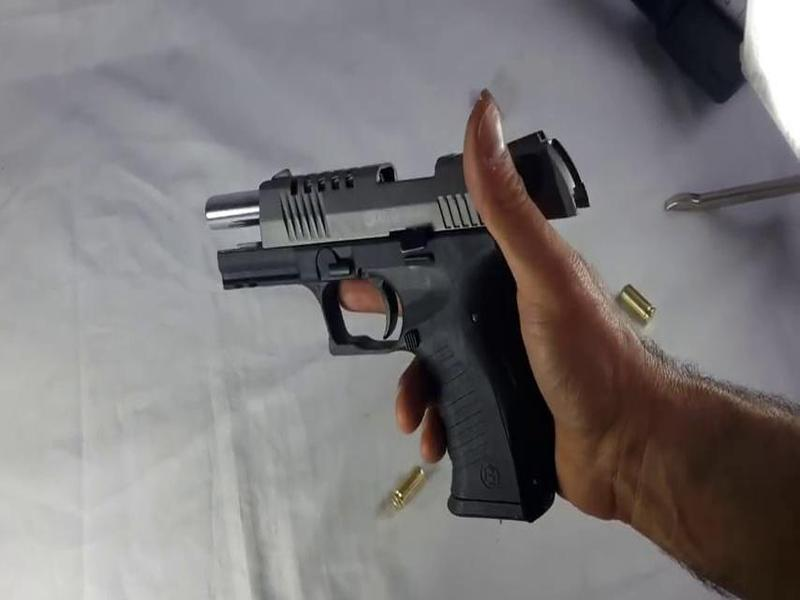Pistola: (189, 83, 623, 540)
